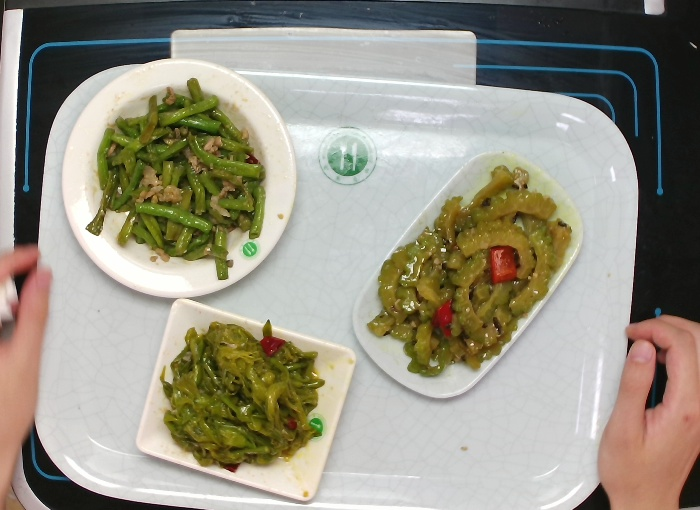WCQzf-Bai_Se_Si_Fang_Die: (130, 293, 360, 506)
WCQzf-Kuan_Bian_Yuan_Die: (55, 50, 309, 303)
WCQzf-Tuo_Yuan_Pan: (346, 146, 589, 403)
